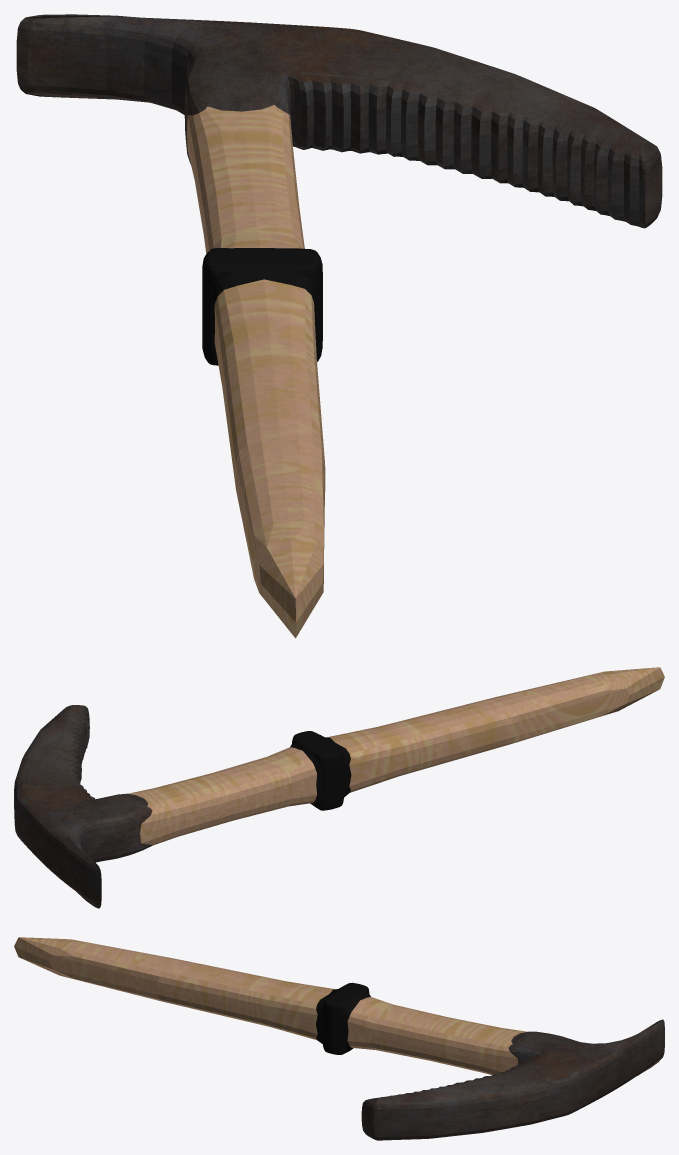
Rendered from Ice pick.glb.
3 views of the same model, one above another, from view 1: azimuth 30°, elevation 25°; view 2: azimuth 150°, elevation 25°; view 3: azimuth 270°, elevation 25° (orthographic). The views are drawn at different scales.
Visible parts, largest first — view 1: Plane; view 2: Plane; view 3: Plane.
Boxes of the visible parts, x1=… form: Plane: x1=16, y1=14, x2=662, y2=638; Plane: x1=14, y1=667, x2=664, y2=908; Plane: x1=14, y1=937, x2=664, y2=1140.
Bounding box in the file's own units: 2.57 × 0.3419 × 3.98.
3 materials, 2 textured.
